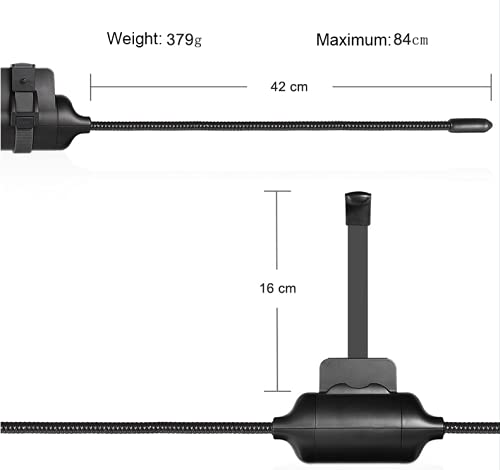3795: (167, 33, 201, 47)
Weight:: (107, 32, 158, 48)
